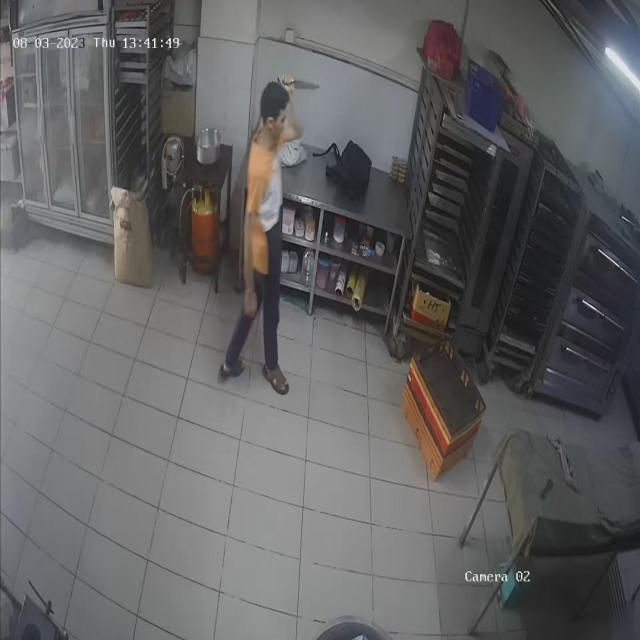Knife: (279, 68, 333, 98)
